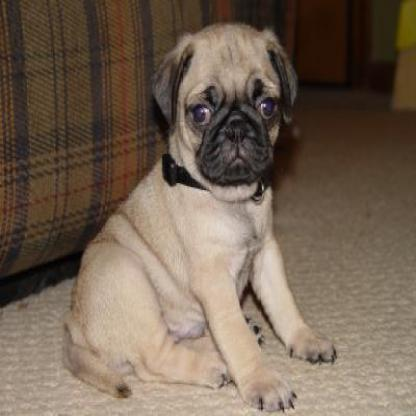pug: (60, 19, 337, 412)
